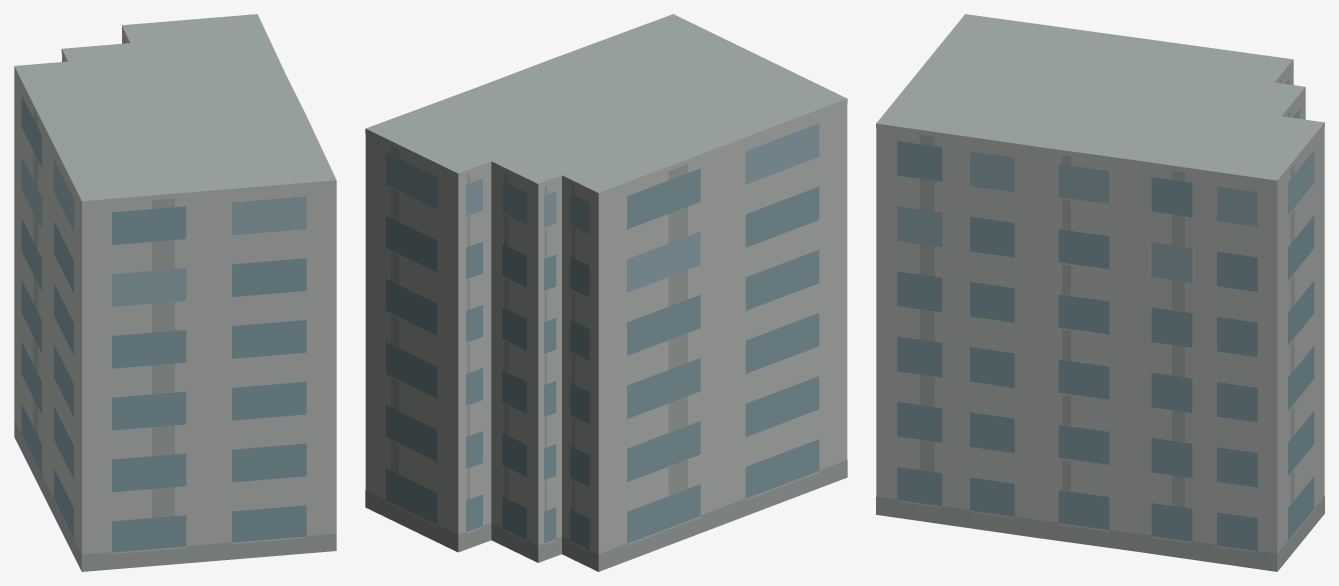
The model's file is survey-upis-32869779.glb.
The picture shows the model from 3 angles, left to right: view 1: azimuth 30°, elevation 25°; view 2: azimuth 150°, elevation 25°; view 3: azimuth 270°, elevation 25°; orthographic projection. The views are drawn at different scales.
Visible parts, largest first — view 1: survey-upis-32869779.tmp; view 2: survey-upis-32869779.tmp; view 3: survey-upis-32869779.tmp.
Part boxes in pixels (x1,y1,x2,y2): survey-upis-32869779.tmp: (14, 14, 336, 571); survey-upis-32869779.tmp: (365, 14, 847, 571); survey-upis-32869779.tmp: (876, 14, 1324, 571).
Size of the model in its own units: 17.73 by 19.4 by 20.17.
